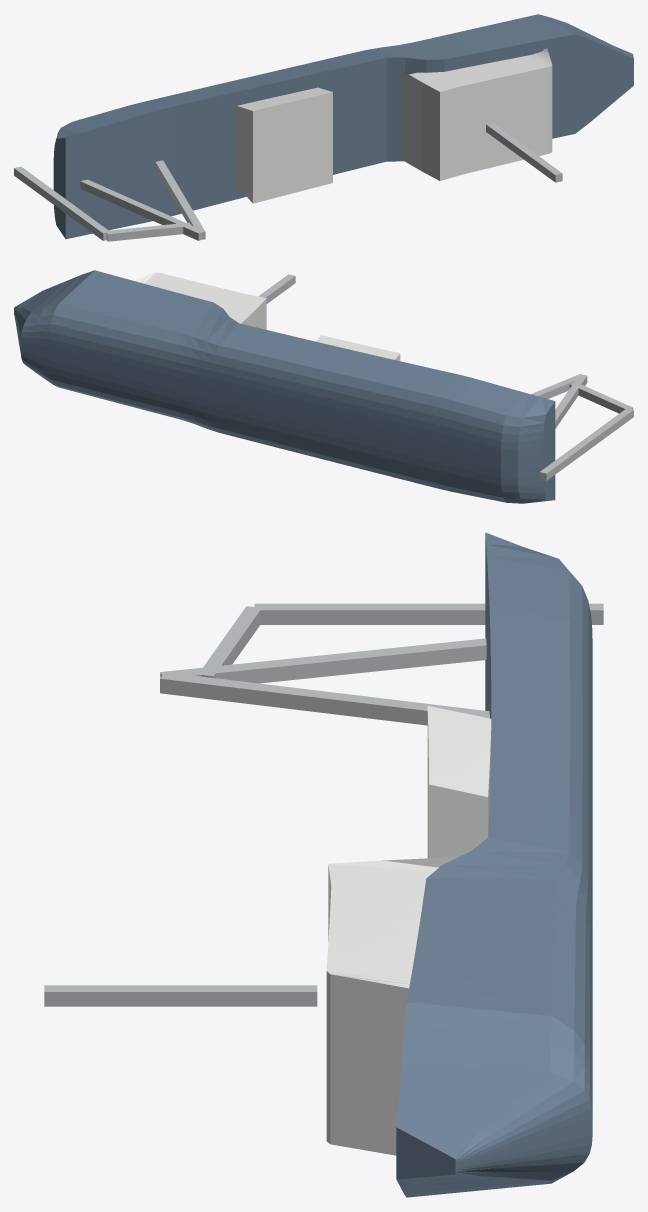
The model's file is loft-dive-support-slender.glb.
3 renders of one model, top to bottom at view 1: azimuth 30°, elevation 25°; view 2: azimuth 150°, elevation 25°; view 3: azimuth 270°, elevation 25°, orthographic. The views are drawn at different scales.
Visible parts, largest first — view 1: loft-dive-support-slender; view 2: loft-dive-support-slender; view 3: loft-dive-support-slender.
Part boxes in pixels (x1=…): loft-dive-support-slender: x1=14, y1=14, x2=633, y2=241; loft-dive-support-slender: x1=14, y1=270, x2=633, y2=503; loft-dive-support-slender: x1=44, y1=532, x2=603, y2=1197.
Size of the model in its own units: 1.95 by 0.3513 by 0.8306.
